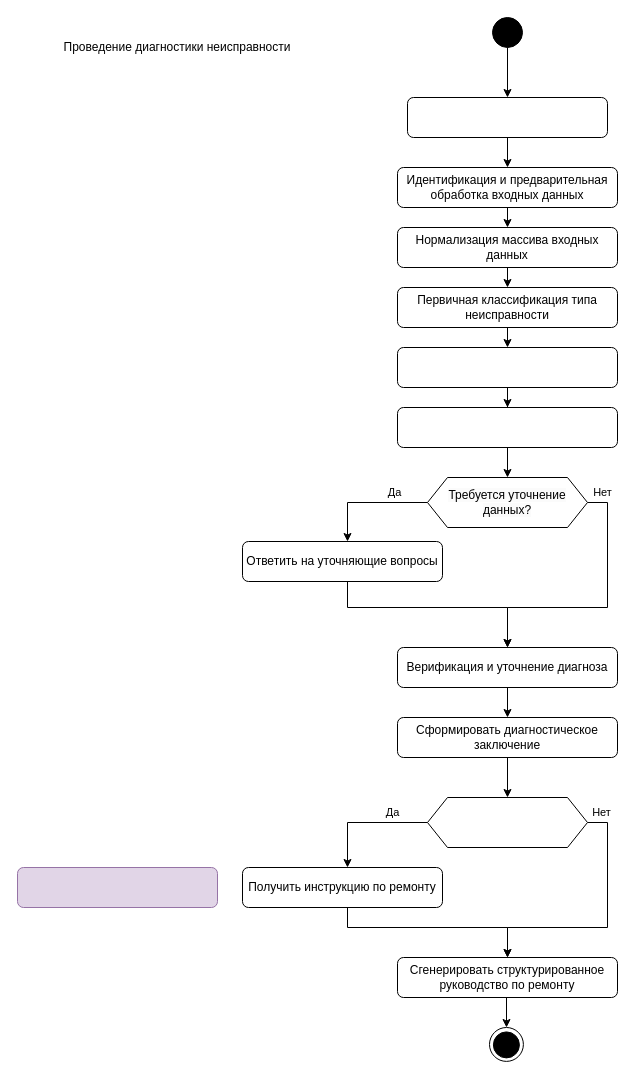
Image size: 635x1080. Some labels were removed from this diagram. Each missing label, with the box of its shape:
Логический анализ и генерация диагностических гипотез: (396, 346, 618, 388)
Получить диагностическое заключение: (16, 866, 218, 908)
Предоставить данные о симптомах неисправности: (406, 96, 608, 138)
Сформировать перечень потенциальных причин: (396, 406, 618, 448)
Уровень пользователя позволяет починить?: (426, 796, 588, 848)
